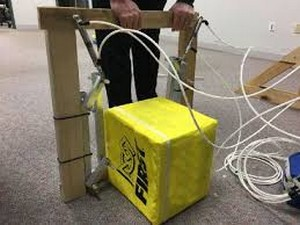cube: (104, 96, 215, 225)
